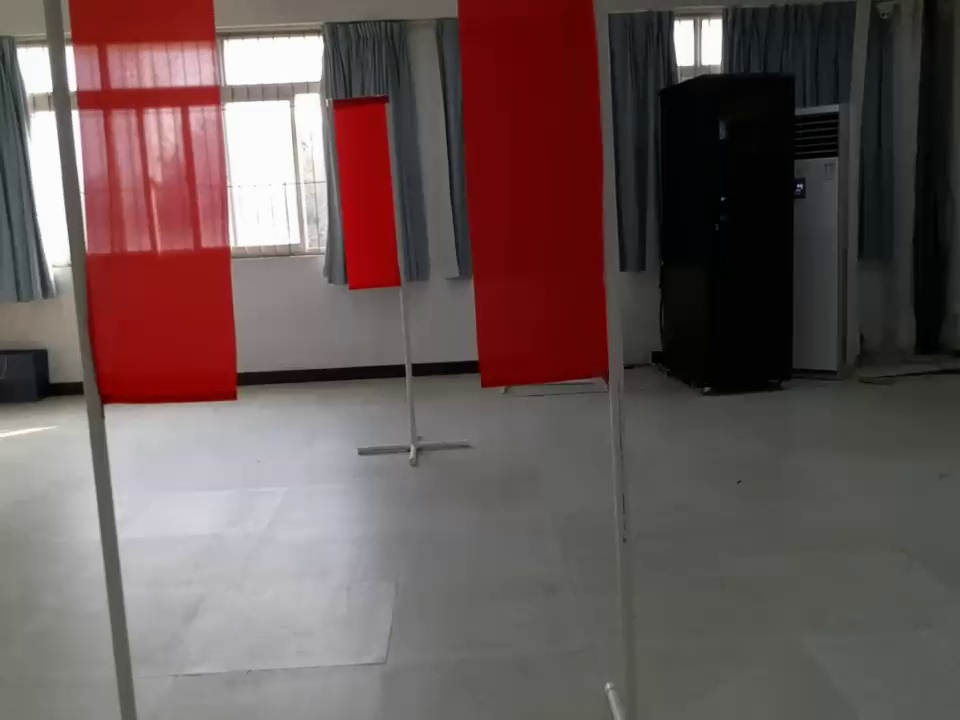qi: (41, 1, 238, 408), (457, 1, 634, 388), (333, 74, 390, 293)
